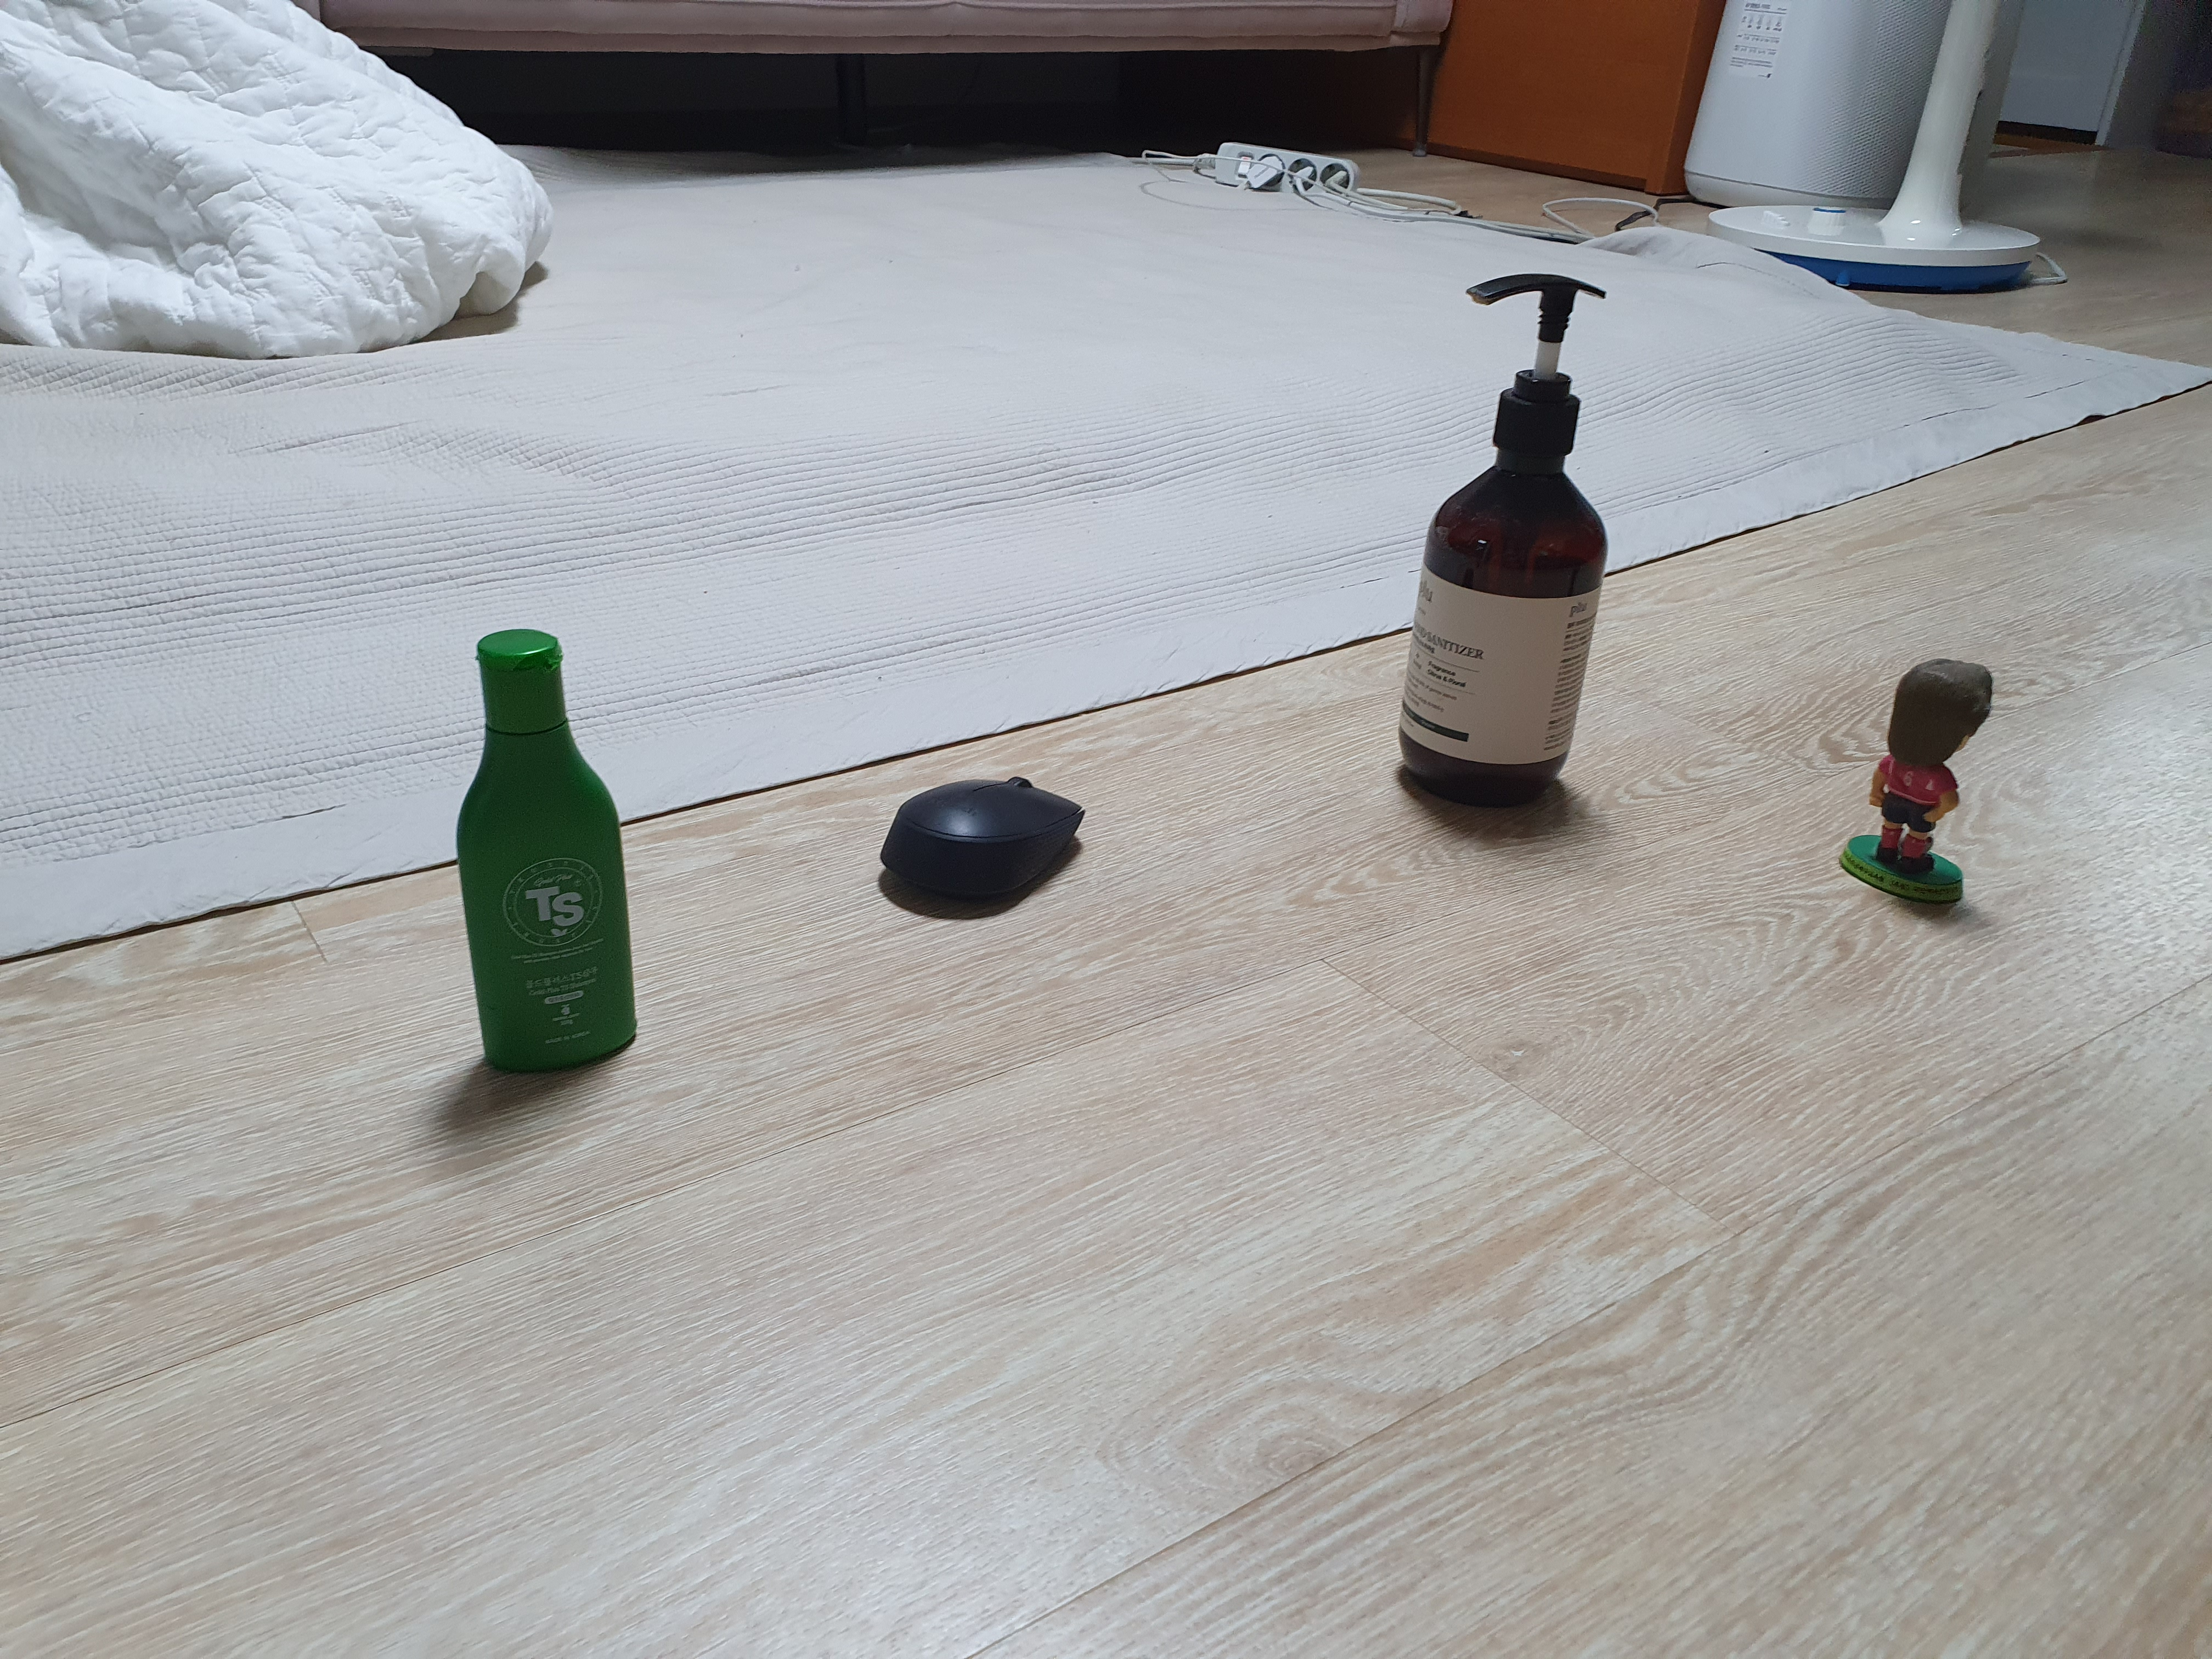bottle: (1381, 232, 1625, 852)
mouse: (826, 732, 1130, 941)
shampoo: (404, 608, 697, 1143)
yoo: (1817, 626, 2022, 958)
